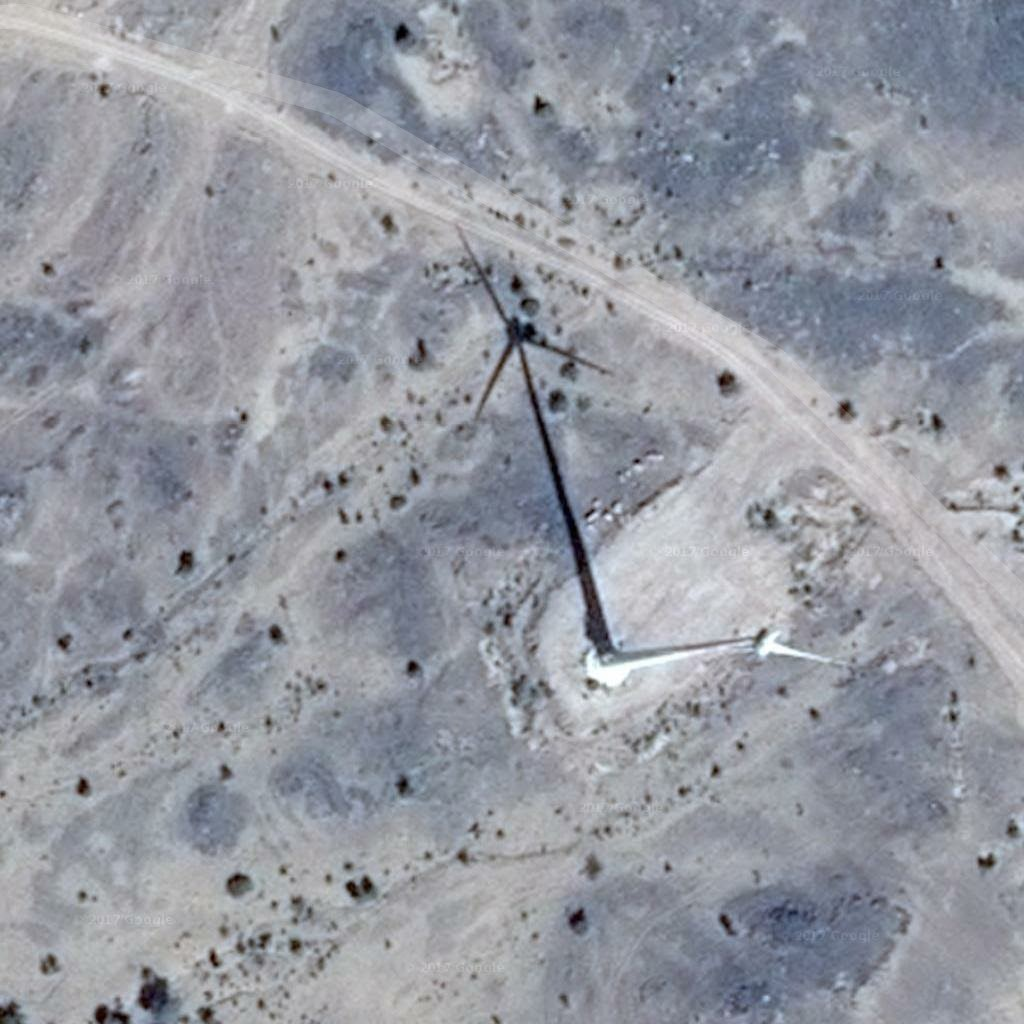Windmill: (438, 217, 648, 683)
